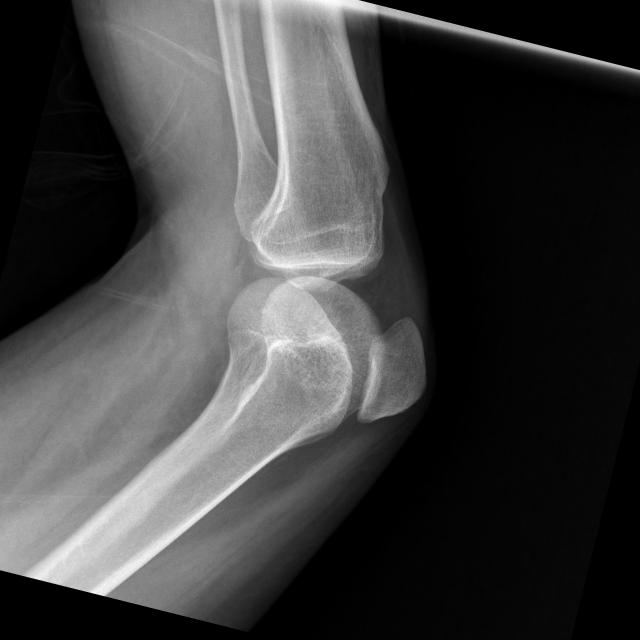Knee: (205, 160, 475, 453)
